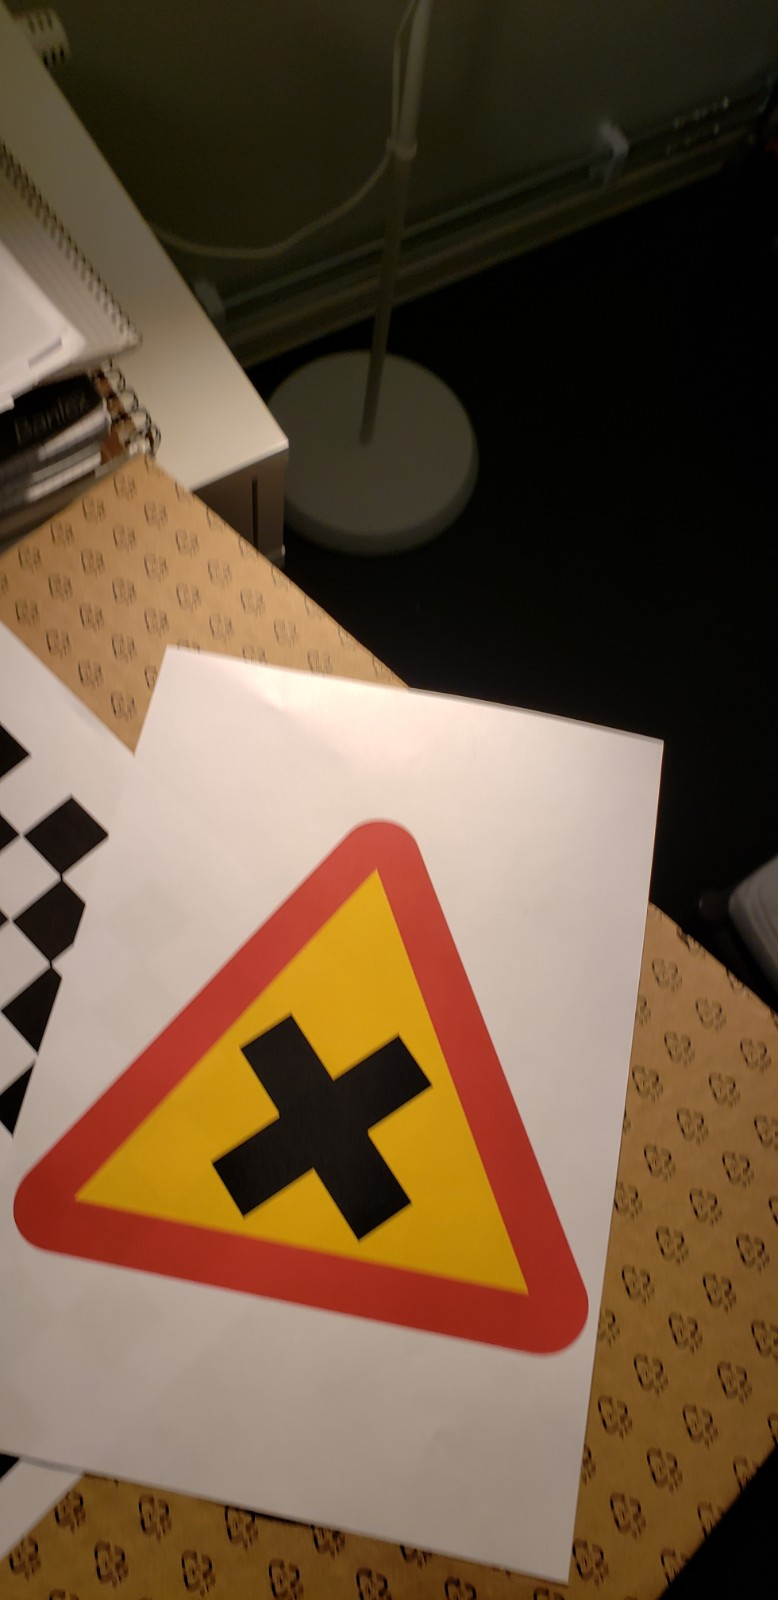junction: (21, 762, 666, 1394)
